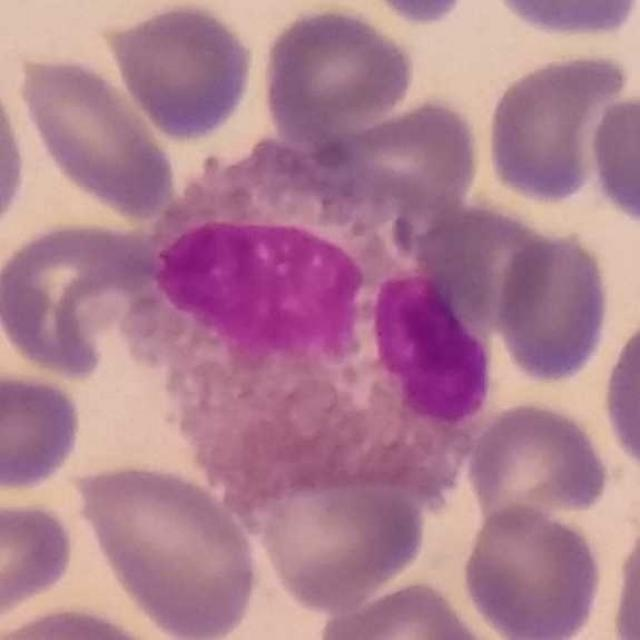Eosinophil: (145, 142, 496, 520)
Platelets: (364, 0, 473, 28)
RBC: (69, 457, 264, 640), (245, 446, 431, 617), (12, 49, 179, 223), (1, 217, 155, 384), (481, 48, 633, 208), (257, 1, 419, 150), (100, 1, 260, 144), (308, 92, 486, 218), (457, 498, 606, 640), (491, 226, 615, 387), (462, 398, 614, 526), (310, 576, 504, 640), (0, 364, 87, 496), (0, 487, 79, 632), (585, 89, 640, 233), (597, 303, 640, 484), (479, 0, 640, 42), (1, 601, 174, 640), (0, 57, 31, 248), (605, 510, 640, 640), (361, 0, 472, 28)
